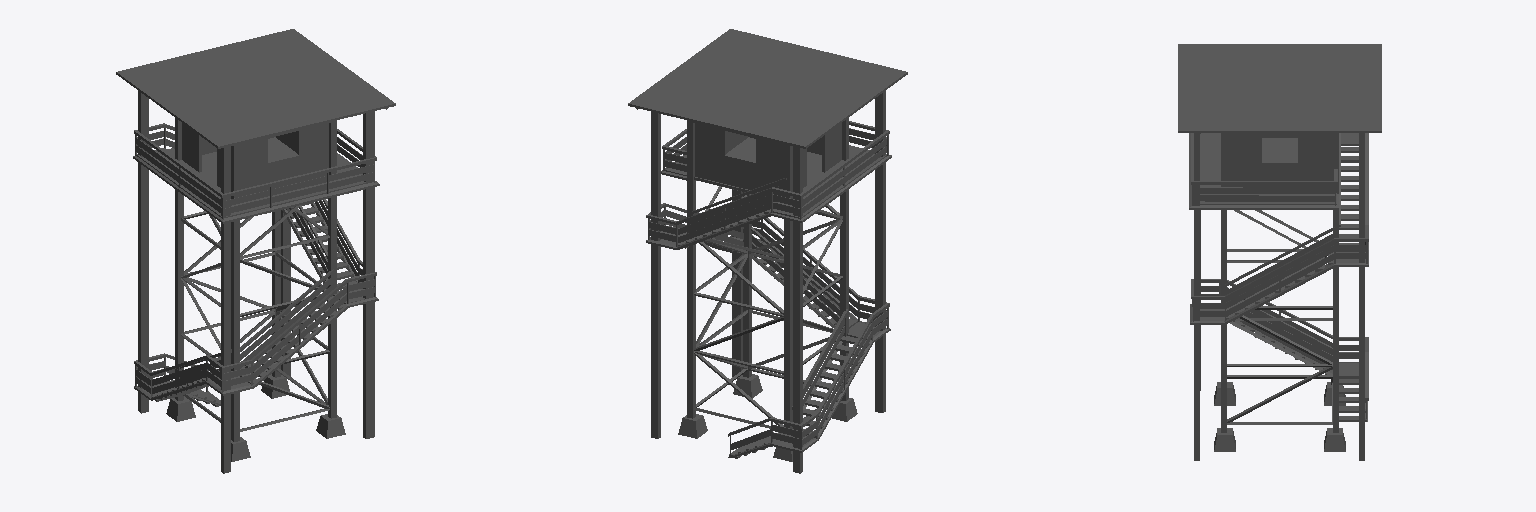
File: Tower.obj
3 views of the same model, side by side, from view 1: azimuth 30°, elevation 25°; view 2: azimuth 150°, elevation 25°; view 3: azimuth 270°, elevation 25° (orthographic).
Visible parts, largest first — view 1: watchtowerHigh_watchtower; view 2: watchtowerHigh_watchtower; view 3: watchtowerHigh_watchtower.
Boxes of the visible parts, <box> form: watchtowerHigh_watchtower: <box>116,29,395,473</box>; watchtowerHigh_watchtower: <box>628,29,907,473</box>; watchtowerHigh_watchtower: <box>1178,44,1381,460</box>.
Bounding box in the file's own units: 4.22 × 7.65 × 4.22.